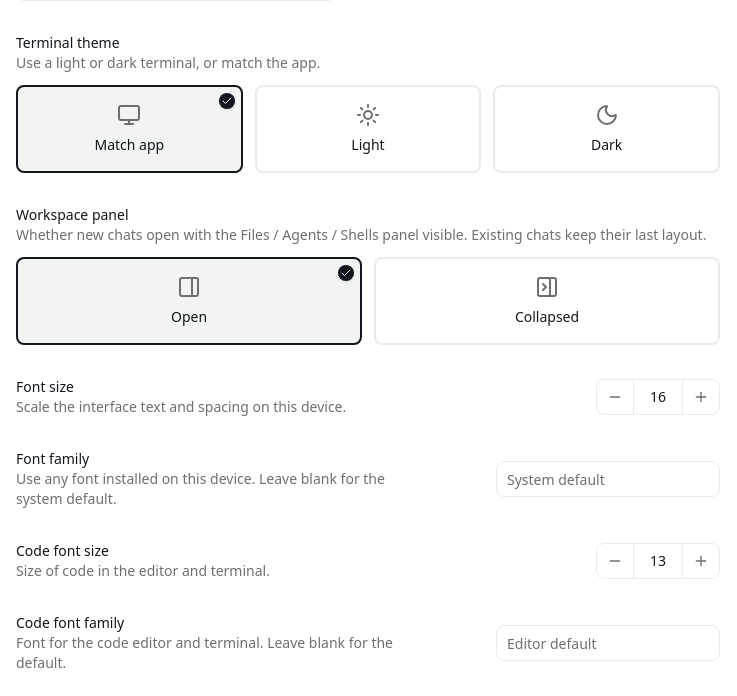
SettingsPage › clamps a below-min entry to the minimum on blur
(page scrolled)
Replace the text in the number field with test id "ui-font-size-input" with "1" at (658,397), box [642,387,674,407]
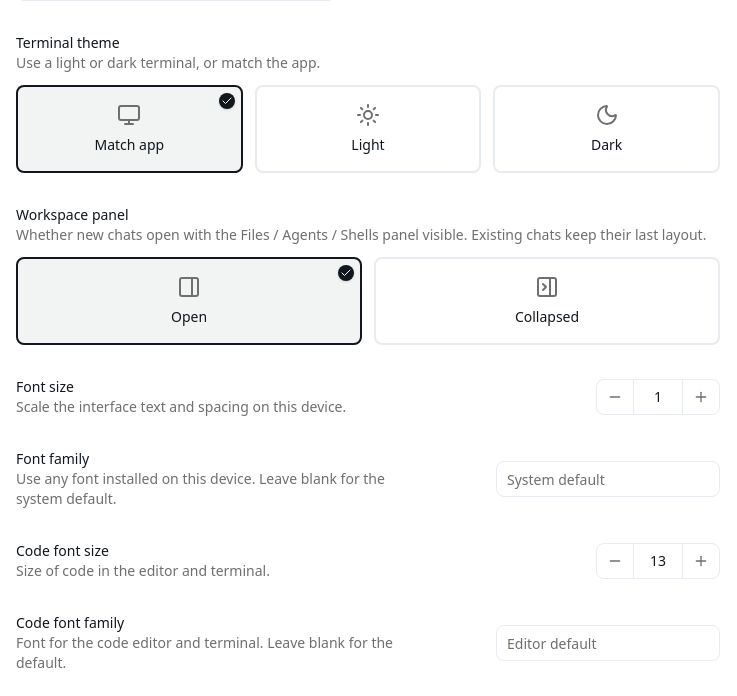
Leave the number field with test id "ui-font-size-input", box [642,387,674,407]
(page scrolled)
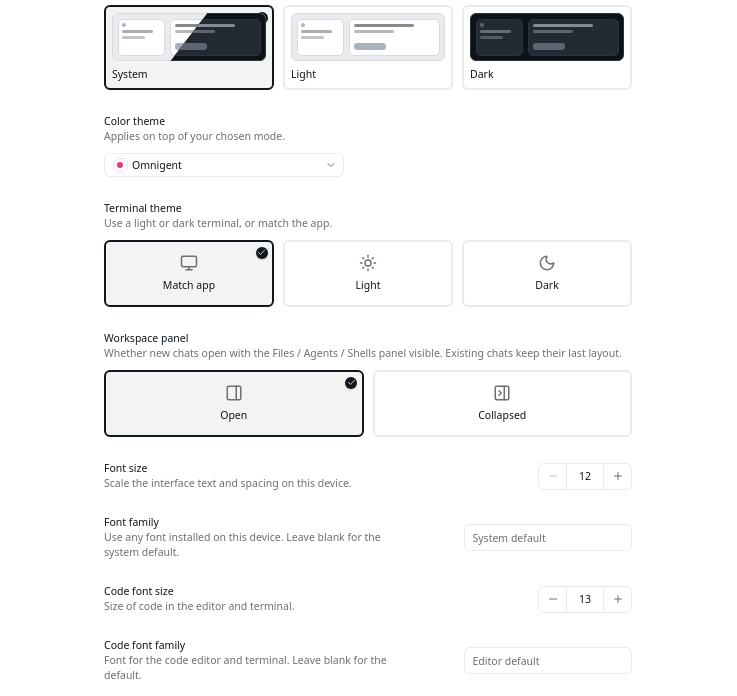
Expected: the number field with test id "ui-font-size-input" holds "12", [573,468,597,484]
